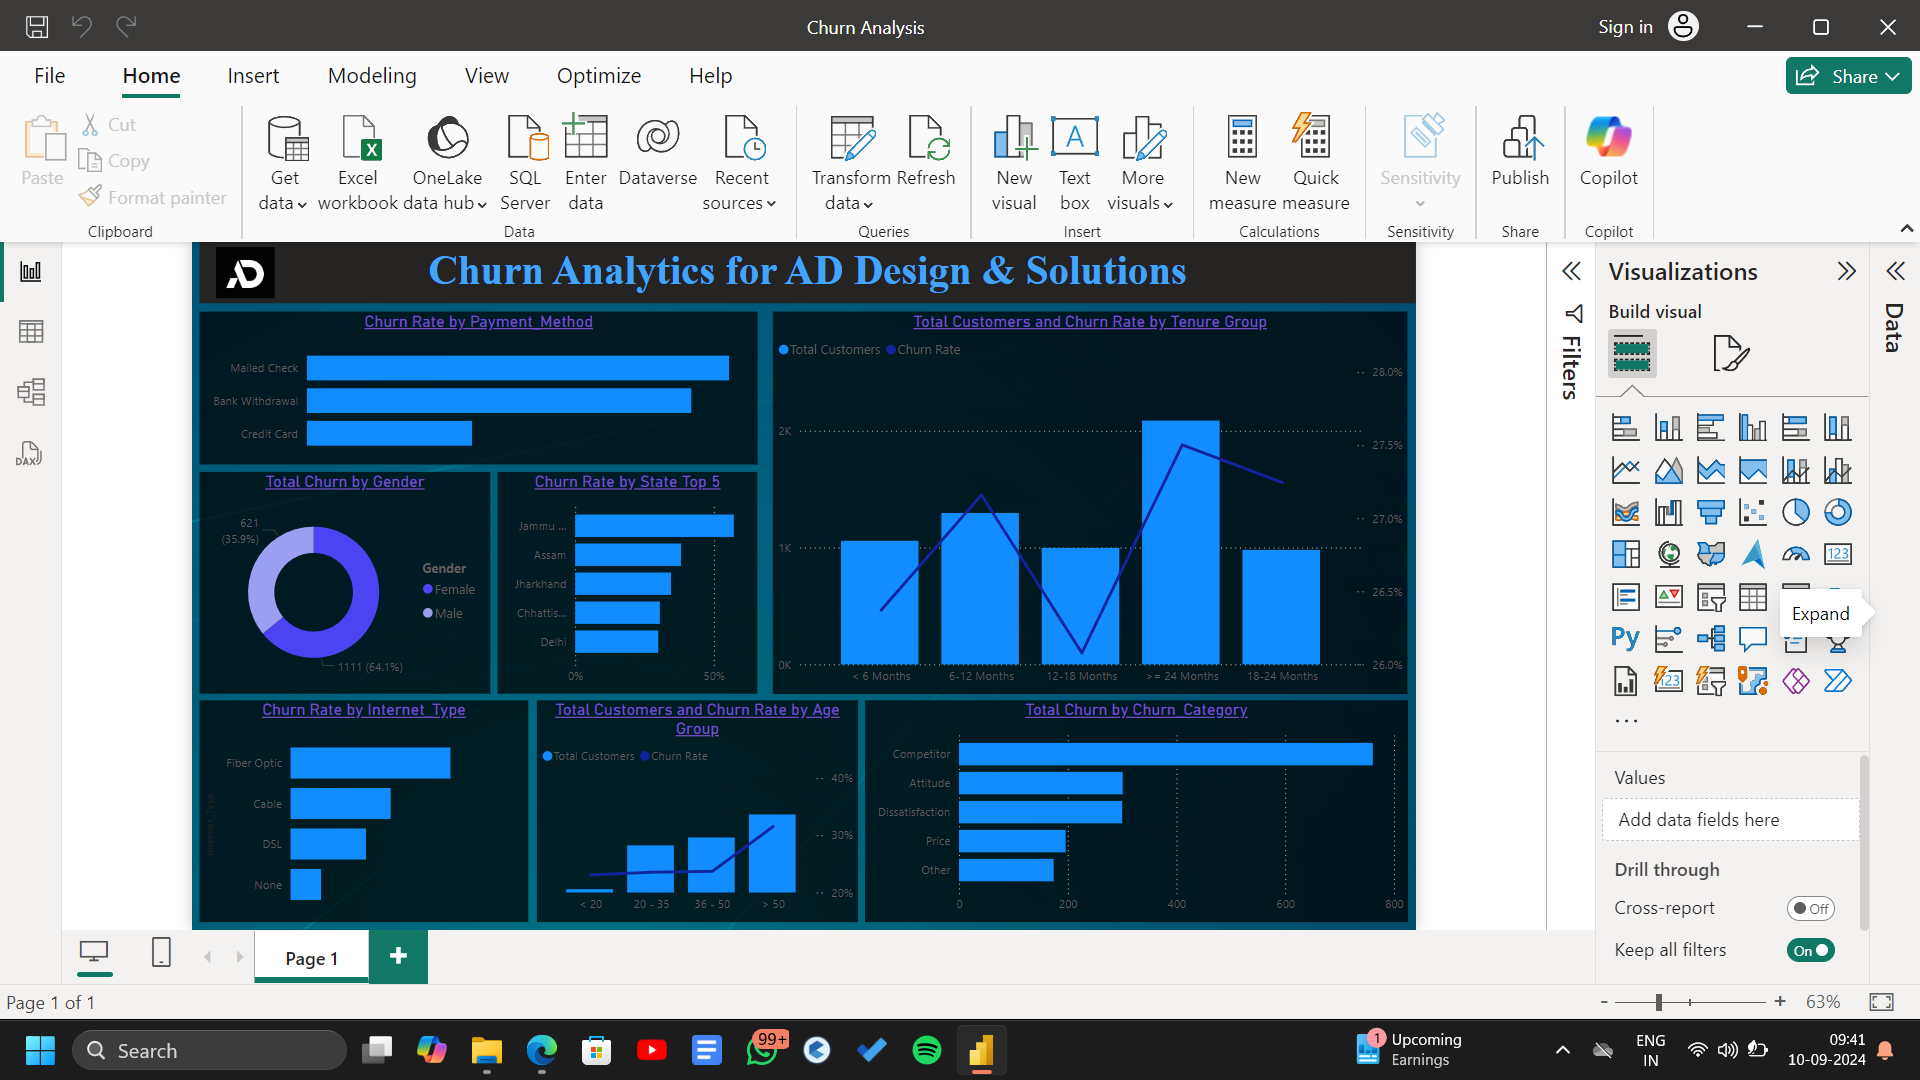

This screenshot's page, from the dashboard's own definition file:
{"tool":"powerbi","page":{"name":"Page 1","canvas":[1280,720],"ordinal":0},"visuals":[{"type":"donutChart","fields":{"Y":["key Measures.Total Churn"],"Category":["db_churn prod_churn.Gender"]},"box":[8,240,304,232],"z":0},{"type":"lineStackedColumnComboChart","fields":{"Category":["Age Grouping.Age Group"],"Y":["key Measures.Total Customers"],"Y2":["key Measures.Churn Rate"]},"box":[360,480,336,232],"z":1000},{"type":"barChart","title":"Churn Rate by State Top 5","fields":{"Category":["db_churn prod_churn.State"],"Y":["key Measures.Churn Rate"]},"box":[320,240,272,232],"z":2000},{"type":"barChart","fields":{"Y":["key Measures.Churn Rate"],"Category":["db_churn prod_churn.Internet_Type"]},"box":[8,480,344,232],"z":3000},{"type":"clusteredBarChart","fields":{"Category":["db_churn prod_churn.Payment_Method"],"Y":["key Measures.Churn Rate"]},"box":[8,72,584,160],"z":4000},{"type":"lineStackedColumnComboChart","fields":{"Y":["key Measures.Total Customers"],"Y2":["key Measures.Churn Rate"],"Category":["Tenure Grouping.Tenure Group"]},"box":[608,72,664,400],"z":5000},{"type":"barChart","fields":{"Category":["db_churn prod_churn.Churn_Category"],"Y":["key Measures.Total Churn"]},"box":[704,480,568,232],"z":6000},{"type":"textbox","box":[8,0,1272,64],"z":7000},{"type":"image","box":[8,0,96,64],"z":7001}]}

Visuals, with their boxes on the page's 1280x720 design canvas (x1, y1, x2, y2). These are canvas units, not pixel positions in the 1920x1080 screenshot, which may show the page scaled, cropped or inside an application window:
donutChart - key Measures.Total Churn x db_churn prod_churn.Gender: 8 240 312 472
lineStackedColumnComboChart - Age Grouping.Age Group x key Measures.Total Customers: 360 480 696 712
"Churn Rate by State Top 5" barChart: 320 240 592 472
barChart - key Measures.Churn Rate x db_churn prod_churn.Internet_Type: 8 480 352 712
clusteredBarChart - db_churn prod_churn.Payment_Method x key Measures.Churn Rate: 8 72 592 232
lineStackedColumnComboChart - key Measures.Total Customers x key Measures.Churn Rate: 608 72 1272 472
barChart - db_churn prod_churn.Churn_Category x key Measures.Total Churn: 704 480 1272 712
textbox: 8 0 1280 64
image: 8 0 104 64
